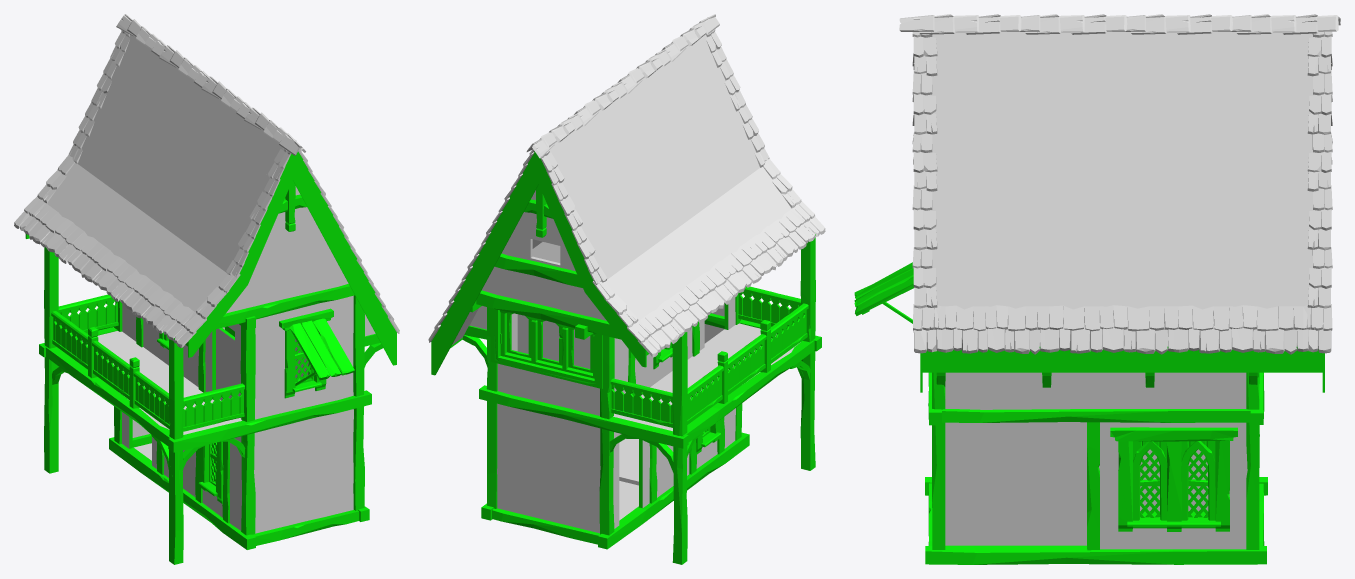
The model's file is SM_House_B_Fantasy_Base.fbx.
3 views of the same model, side by side, from view 1: azimuth 30°, elevation 25°; view 2: azimuth 150°, elevation 25°; view 3: azimuth 270°, elevation 25° (orthographic). The views are drawn at different scales.
Visible parts, largest first — view 1: SM_House_B_Fantasy_Base; view 2: SM_House_B_Fantasy_Base; view 3: SM_House_B_Fantasy_Base.
Boxes of the visible parts, bbox=[...] form: SM_House_B_Fantasy_Base: bbox=[14, 14, 399, 564]; SM_House_B_Fantasy_Base: bbox=[428, 14, 825, 564]; SM_House_B_Fantasy_Base: bbox=[854, 14, 1340, 564].
Bounding box in the file's own units: 6.15 × 10.78 × 9.42.
